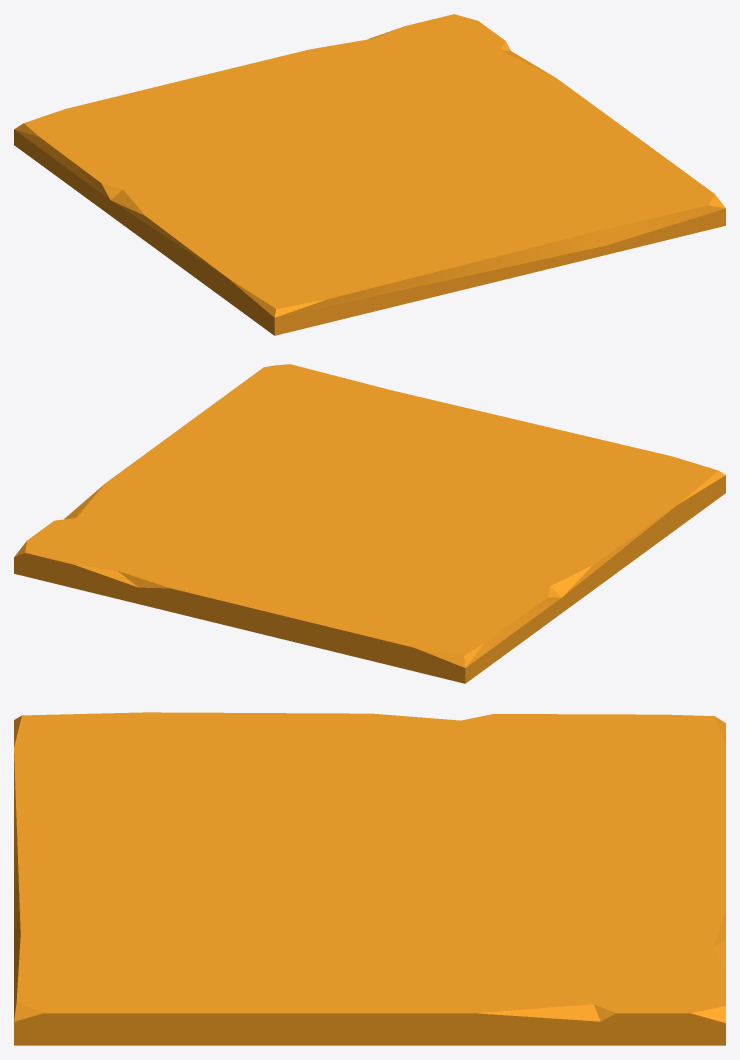
File: SM_Buildings_Floor_2x2_01P.fbx
3 views of the same model, one above another, from view 1: azimuth 30°, elevation 25°; view 2: azimuth 150°, elevation 25°; view 3: azimuth 270°, elevation 25° (orthographic). The views are drawn at different scales.
Parts seen in each view (by area): view 1: SM_Buildings_Floor_2x2_01P; view 2: SM_Buildings_Floor_2x2_01P; view 3: SM_Buildings_Floor_2x2_01P.
Part boxes in pixels (left/top/right/bottom): SM_Buildings_Floor_2x2_01P: left=14, top=14, right=725, bottom=335; SM_Buildings_Floor_2x2_01P: left=14, top=364, right=725, bottom=683; SM_Buildings_Floor_2x2_01P: left=14, top=712, right=725, bottom=1045.
Size of the model in its own units: 200 by 10 by 200.
